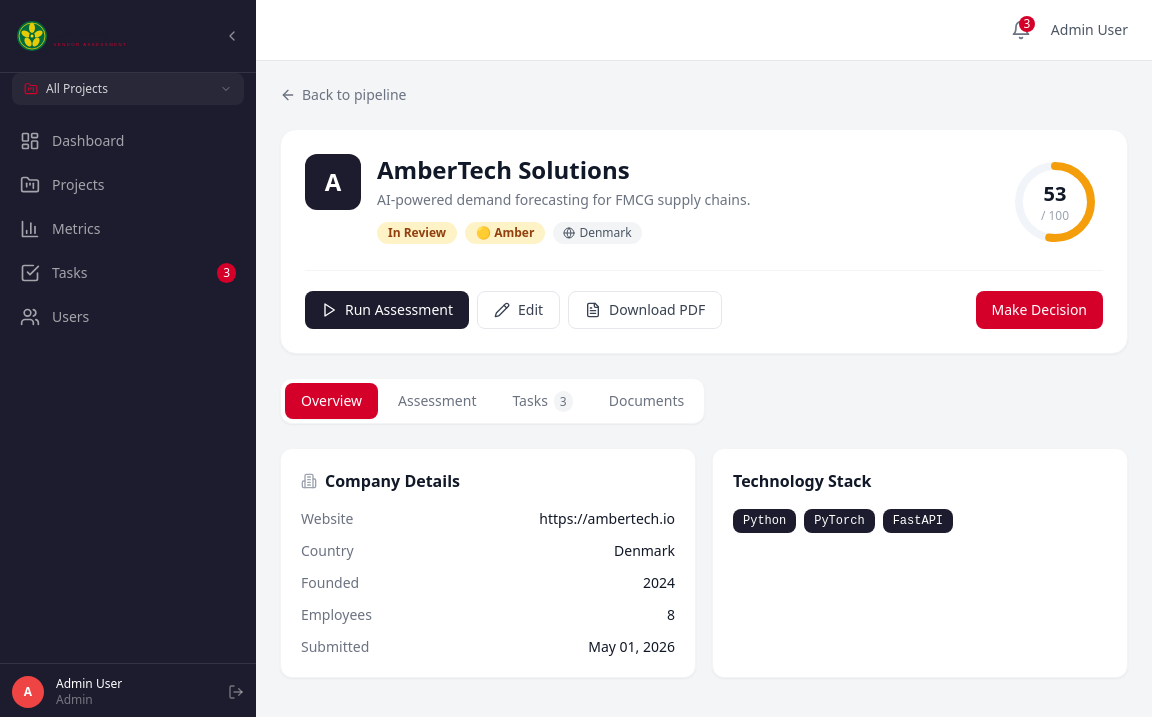
VendorDetailPage › switches to Assessment tab and shows dimension scores
Expected: the heading "AmberTech Solutions" is shown, [377,153,630,186]
Click the button "Assessment" at (437, 401), box [382,383,492,419]
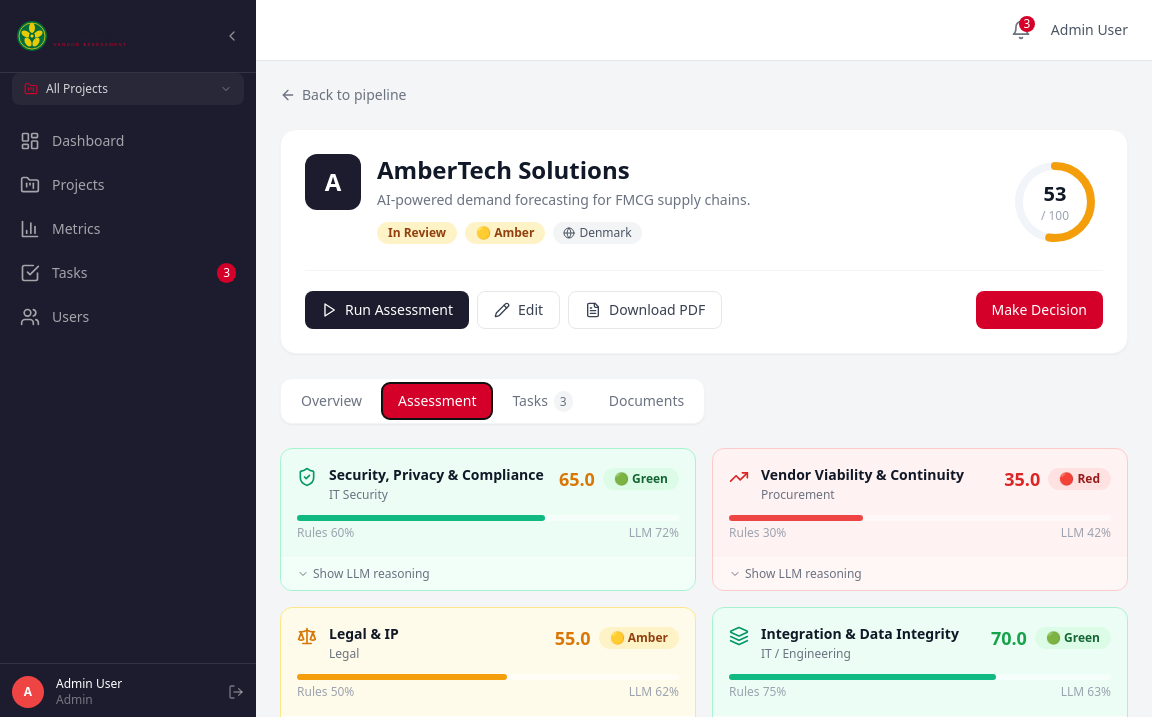
Expected: the text "Security, Privacy & Compliance" is shown, [329,465,544,485]
Expected: the text "Legal & IP" is shown, [329,624,399,644]
Expected: the text "Vendor Viability & Continuity" is shown, [761,465,964,485]
